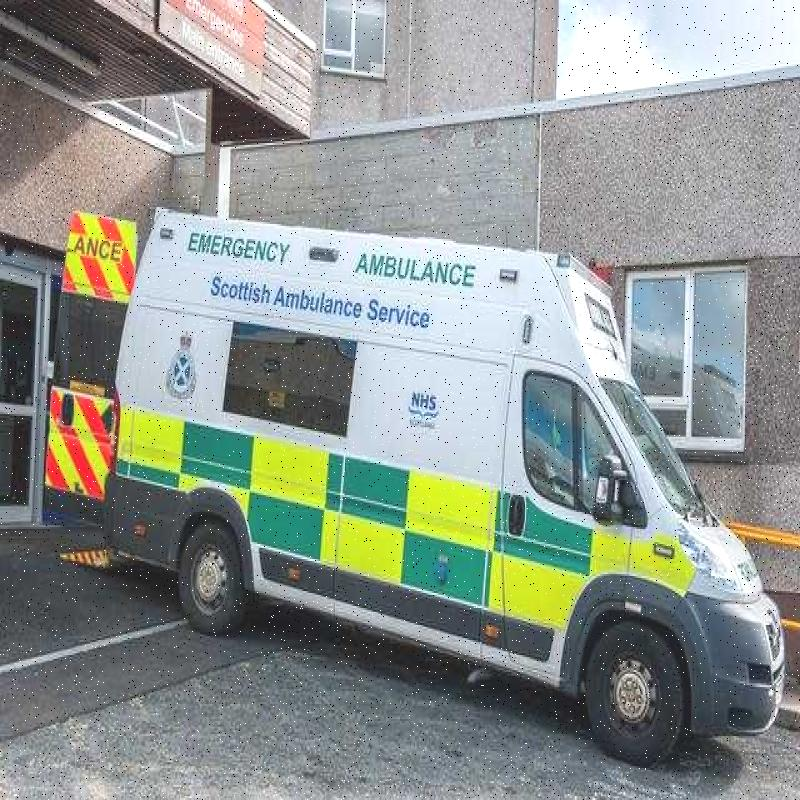ambulance: (101, 200, 778, 748)
